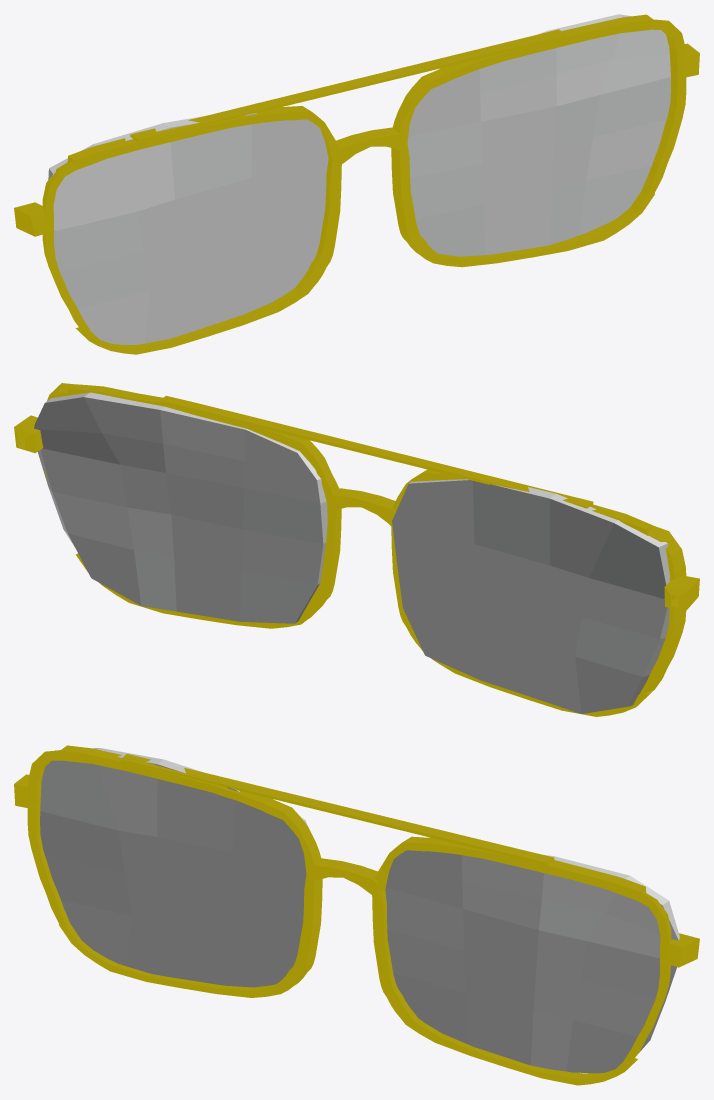
The model's file is 4-Gold-less.glb.
3 renders of one model, top to bottom at view 1: azimuth 30°, elevation 25°; view 2: azimuth 150°, elevation 25°; view 3: azimuth 330°, elevation 25°, orthographic.
Visible parts, largest first — view 1: Lens, frameEnd.002; view 2: Lens, frameEnd.002; view 3: Lens, frameEnd.002.
Part boxes in pixels (x1,y1,x2,y2): Lens: (48,14,670,344); frameEnd.002: (14,14,699,354); Lens: (34,392,669,713); frameEnd.002: (14,383,699,716); Lens: (40,748,679,1073); frameEnd.002: (14,745,699,1085).
Size of the model in its own units: 1.95 by 0.5964 by 0.1153.
